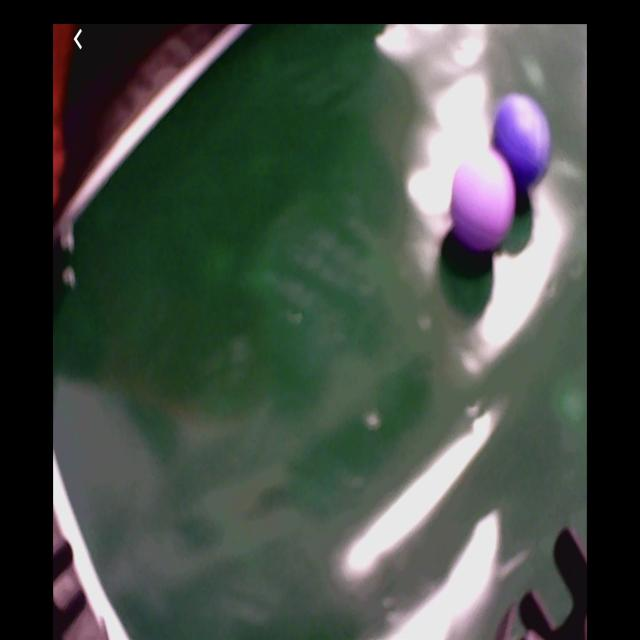ball: (450, 150, 517, 250), (488, 92, 553, 193)
